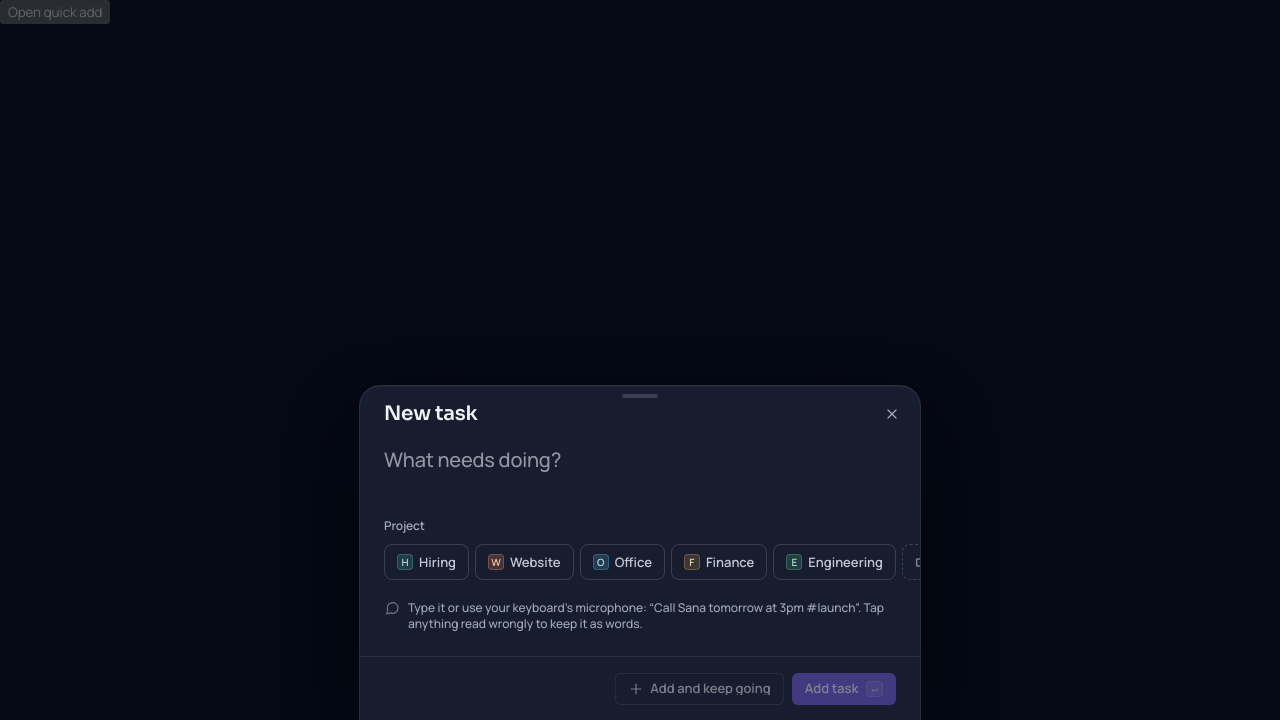
Test: QuickAddSheet › a chip takes over from a typed #project (the token leaves the text)
Type "Fix login #launch" into the text box named "Task, in your own words" at (640, 474), box [384,446,896,502]
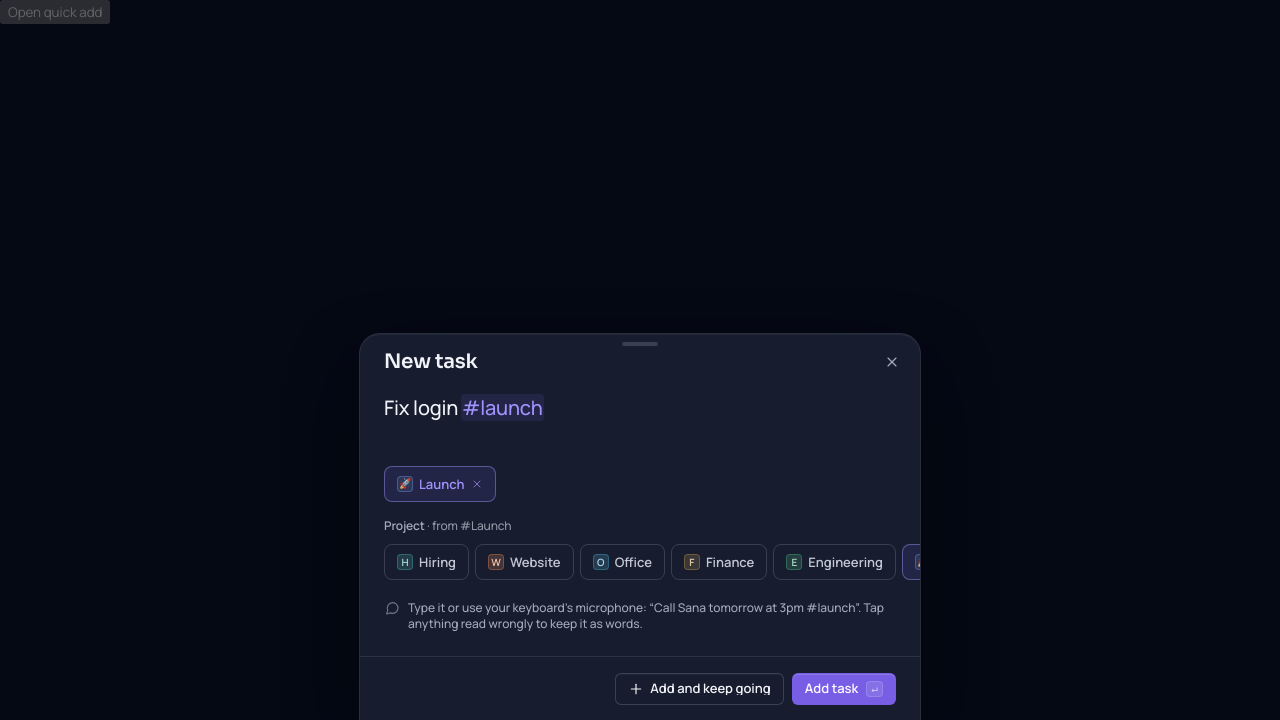
Click the button "H Hiring" at (426, 562), box [384,544,469,580]
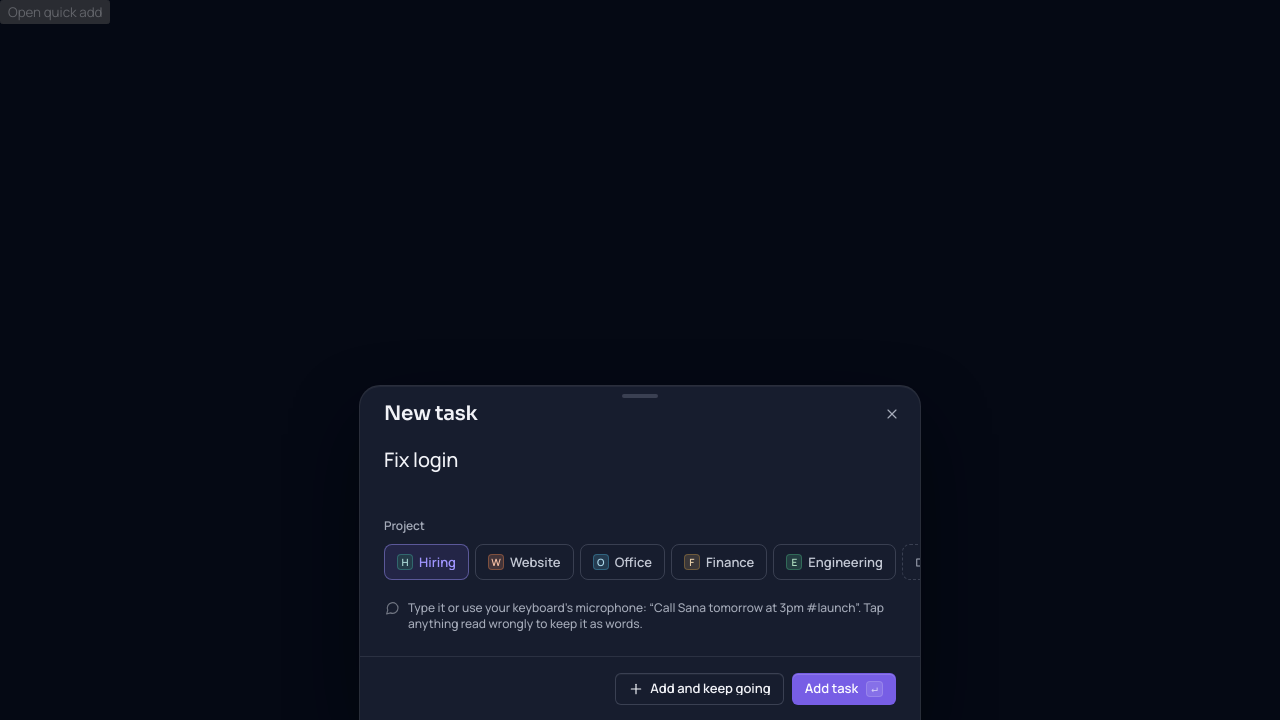
Check: the text box named "Task, in your own words" holds "Fix login", box [384,446,896,502]
